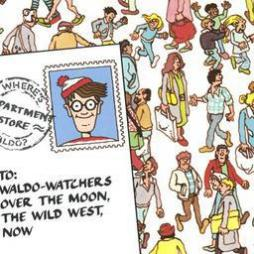wally: (51, 73, 114, 138)
